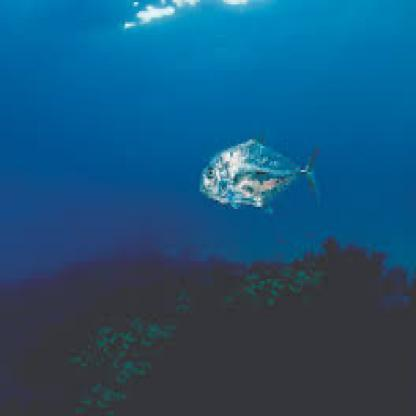Bio: (194, 122, 326, 220)
